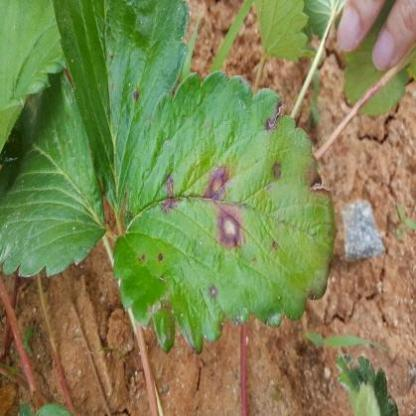Strawberry_Leaf_Spot: (112, 70, 338, 356), (52, 0, 190, 219), (0, 69, 108, 278)
